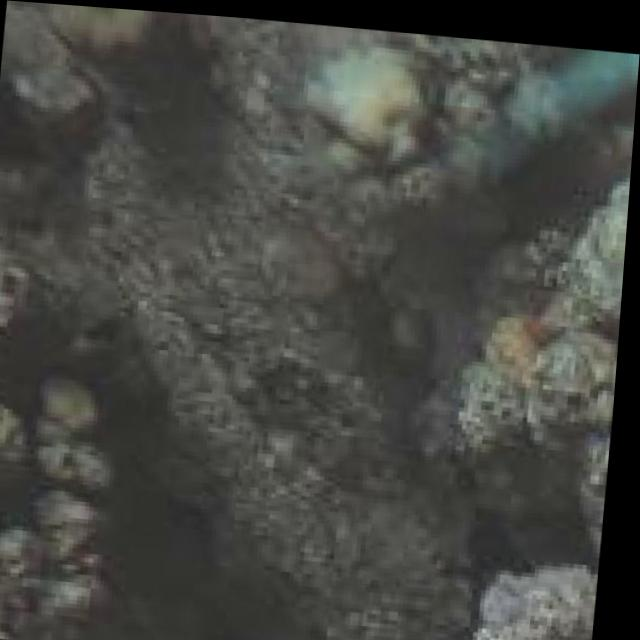Dead Coral: (78, 145, 527, 640)
